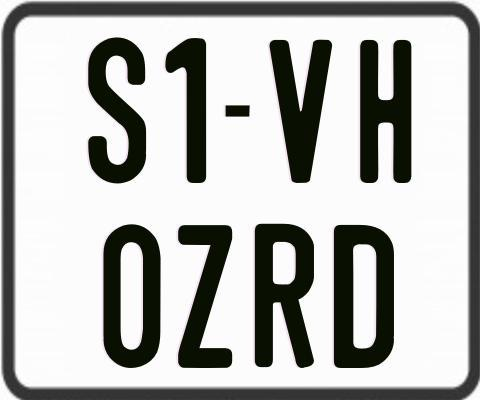0: (103, 222, 162, 367)
1: (162, 37, 209, 188)
D: (334, 225, 394, 370)
H: (358, 40, 411, 186)
R: (252, 222, 314, 370)
S: (87, 37, 150, 189)
V: (268, 37, 335, 180)
Z: (178, 222, 238, 369)
